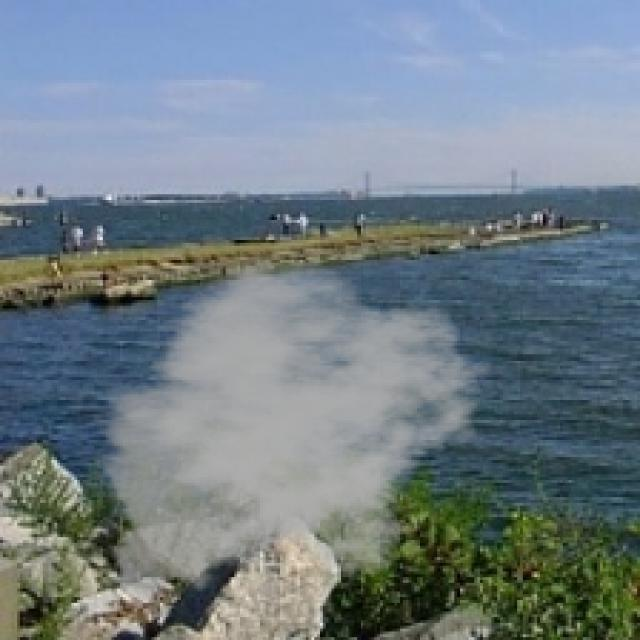Smoke: (88, 260, 494, 614)
